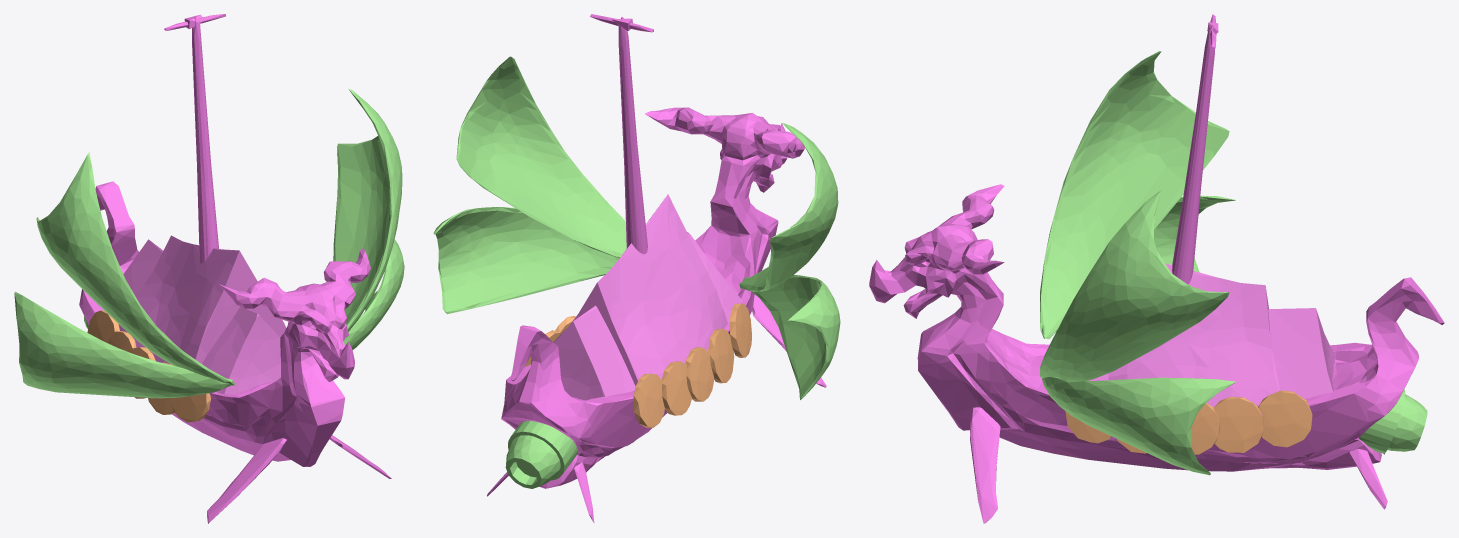
Rendered from Ship.fbx.
3 renders of one model, left to right at view 1: azimuth 30°, elevation 25°; view 2: azimuth 150°, elevation 25°; view 3: azimuth 270°, elevation 25°, orthographic. The views are drawn at different scales.
Parts seen in each view (by area): view 1: Merged_PM3D_Cube3D3; view 2: Merged_PM3D_Cube3D3; view 3: Merged_PM3D_Cube3D3.
Part boxes in pixels (box(x1,y1,x2,y2)): Merged_PM3D_Cube3D3: box(14, 14, 404, 523); Merged_PM3D_Cube3D3: box(433, 14, 840, 522); Merged_PM3D_Cube3D3: box(869, 14, 1444, 523).
Bounding box in the file's own units: 3.66 × 3.89 × 4.43.
